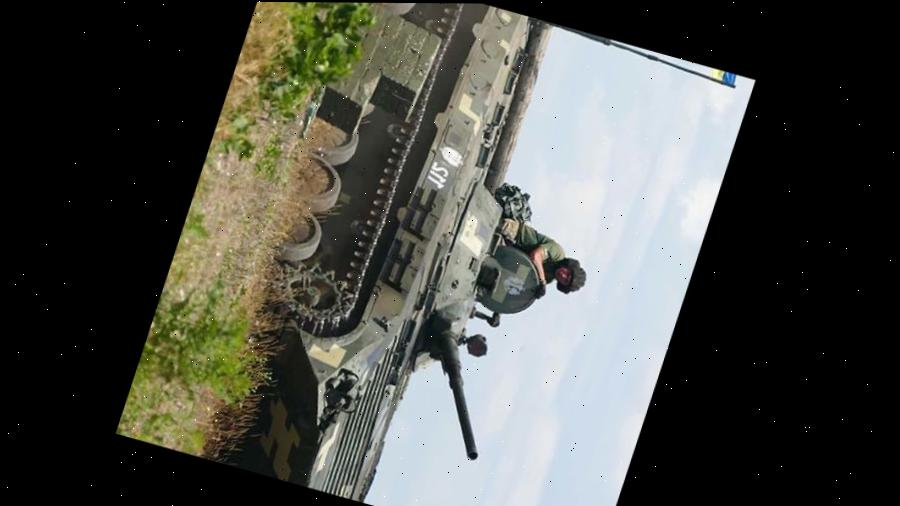tank: (170, 1, 639, 506)
